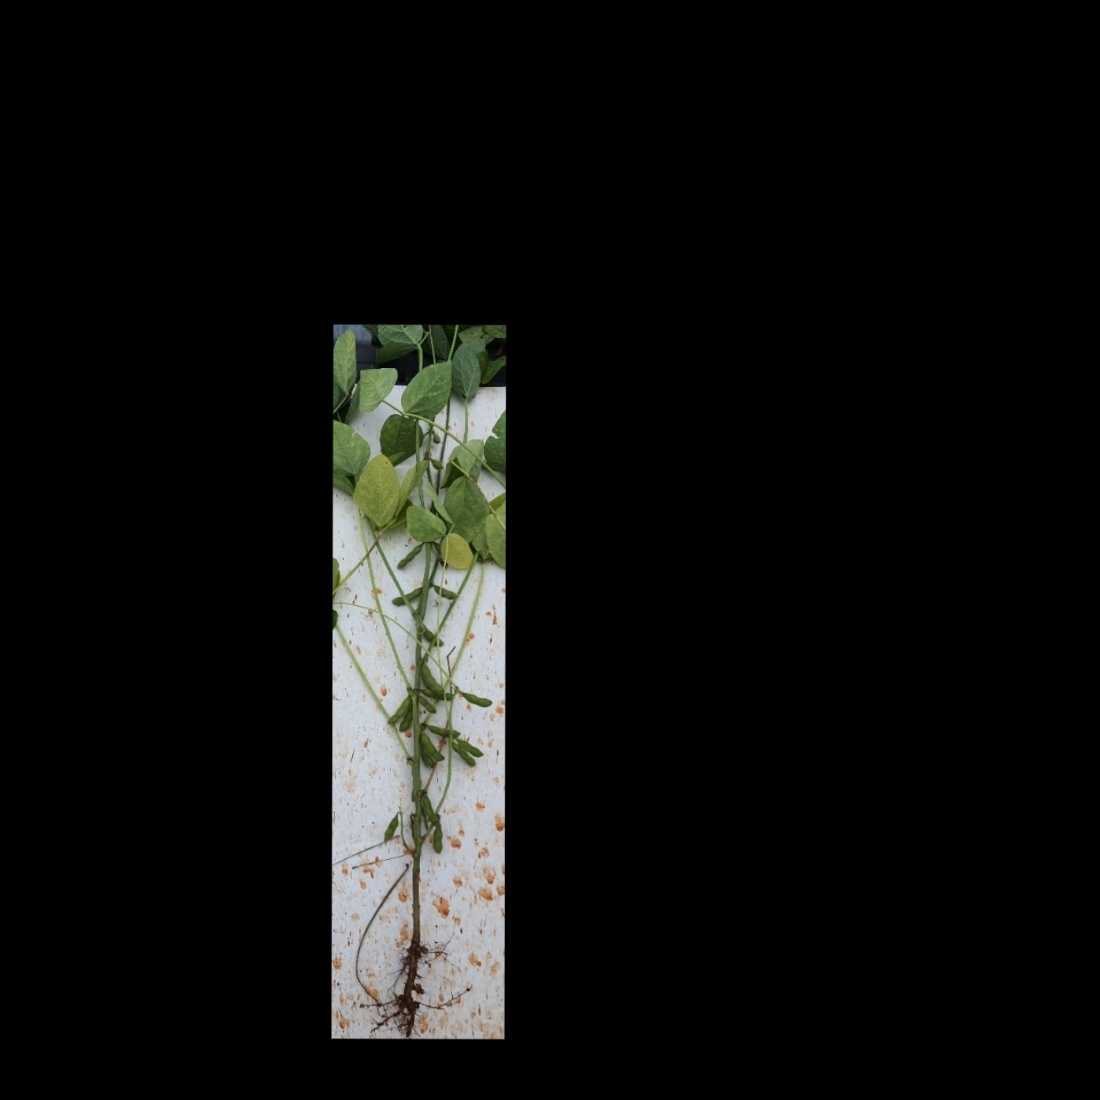pod: (394, 542, 424, 569), (423, 719, 461, 739), (422, 791, 442, 828), (381, 811, 401, 847), (457, 687, 493, 707), (420, 620, 444, 647), (391, 585, 425, 604), (431, 582, 461, 600), (416, 696, 440, 717), (431, 822, 444, 858), (398, 706, 414, 733)
soy: (345, 371, 494, 1017)
